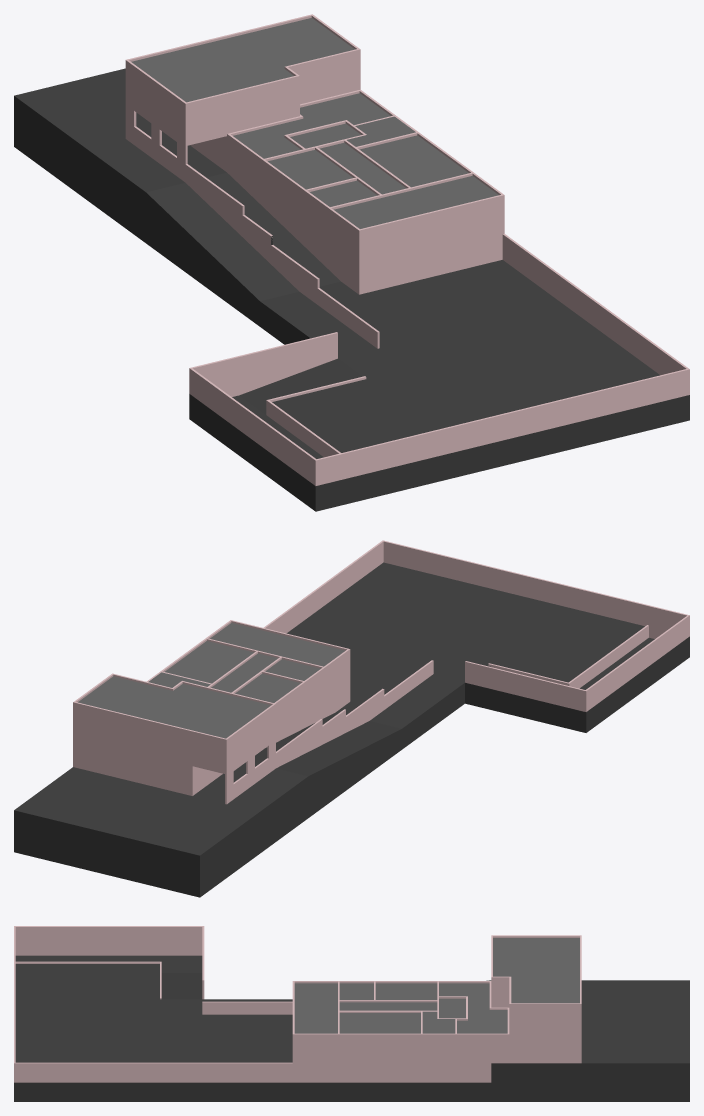
The model's file is mam_v1_2.glb.
3 views of the same model, one above another, from view 1: azimuth 30°, elevation 25°; view 2: azimuth 150°, elevation 25°; view 3: azimuth 270°, elevation 25° (orthographic). The views are drawn at different scales.
Parts seen in each view (by area): view 1: ground, masjid; view 2: ground, masjid; view 3: ground, masjid.
Part boxes in pixels (x1=…): ground: x1=14, y1=68, x2=689, y2=511; masjid: x1=125, y1=14, x2=504, y2=294; ground: x1=14, y1=540, x2=689, y2=897; masjid: x1=73, y1=620, x2=350, y2=804; ground: x1=14, y1=926, x2=689, y2=1101; masjid: x1=292, y1=935, x2=581, y2=1082.
Size of the model in its own units: 36 by 11.95 by 74.87.
